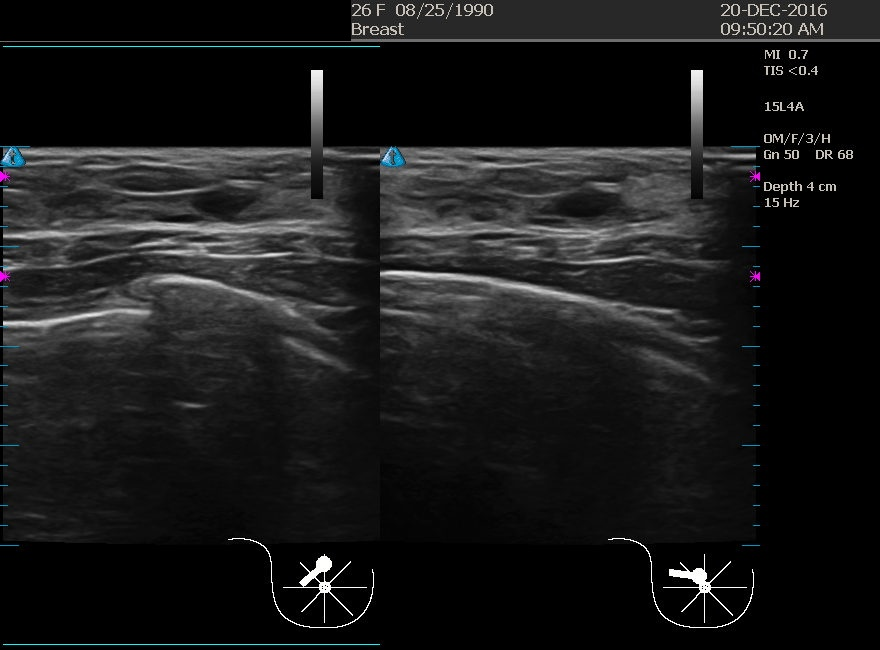BIRADS_2: (462, 167, 662, 368), (107, 150, 307, 350)
